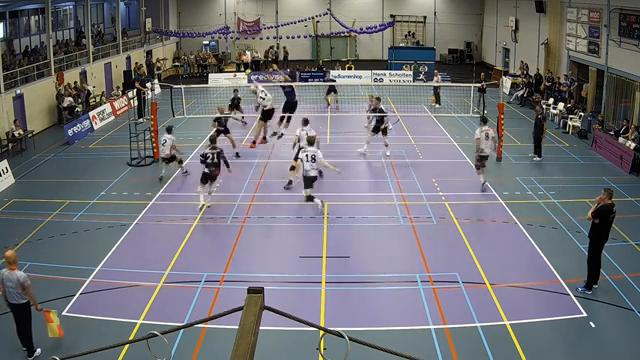attacco: (243, 73, 274, 152)
muro: (267, 63, 299, 143)
